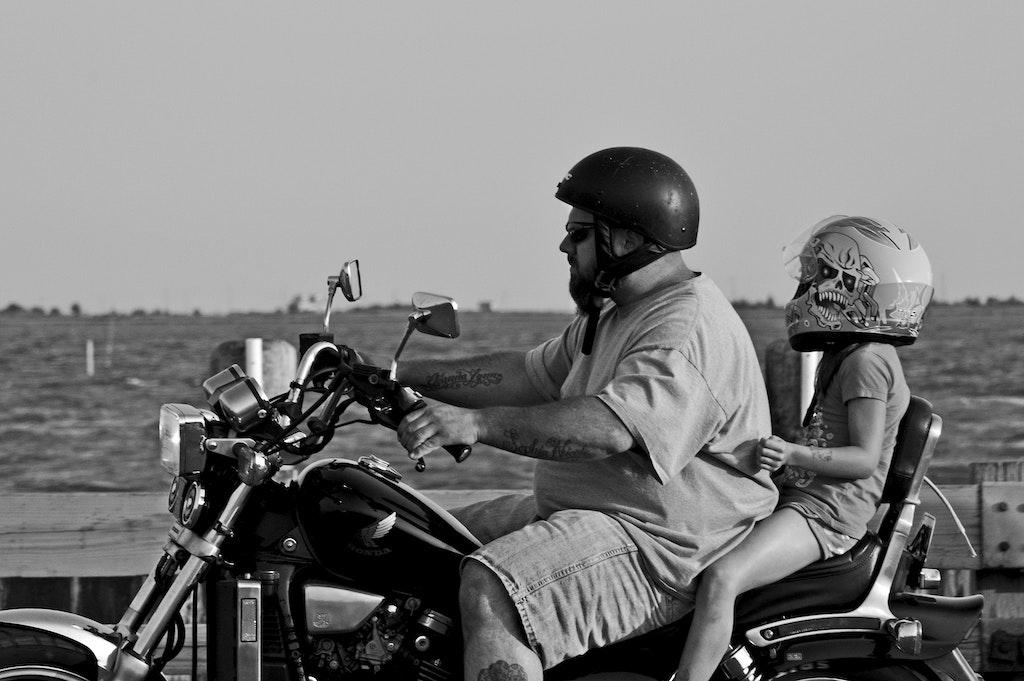helmet: (554, 145, 701, 356), (781, 213, 936, 354)
